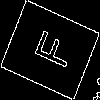F: (25, 24, 76, 71)
